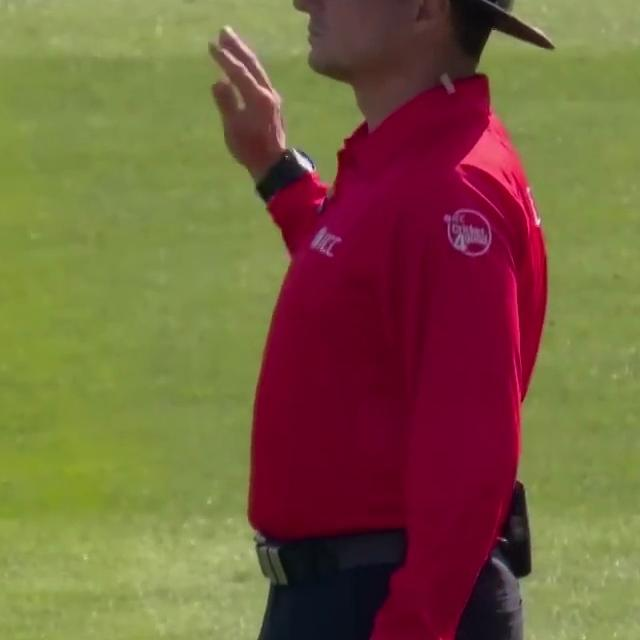umpire: (146, 0, 582, 640)
